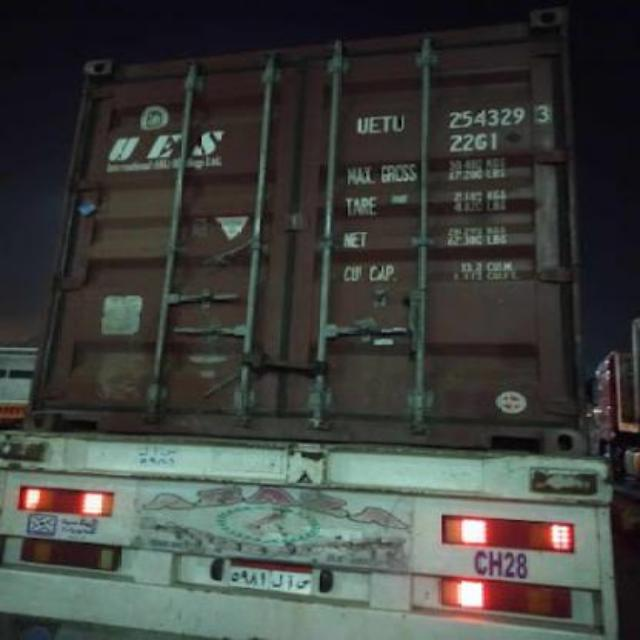2: (442, 108, 458, 132), (498, 102, 510, 130)
3: (530, 101, 554, 125), (486, 102, 498, 128)
4: (472, 104, 486, 132)
5: (460, 104, 472, 132)
9: (511, 102, 524, 130)
E: (368, 112, 380, 136)
T: (380, 110, 390, 138)
U: (350, 112, 368, 138), (391, 112, 404, 134)
